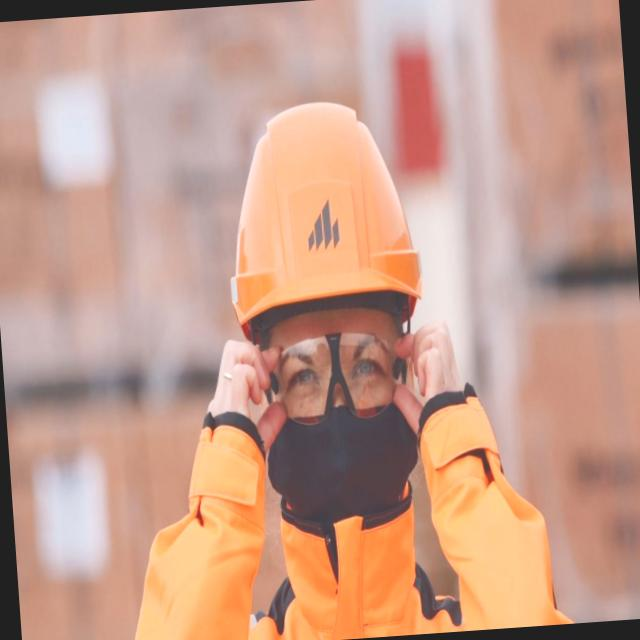goggles: (246, 315, 417, 446)
helmet: (216, 92, 422, 336)
vest: (141, 455, 574, 640)
